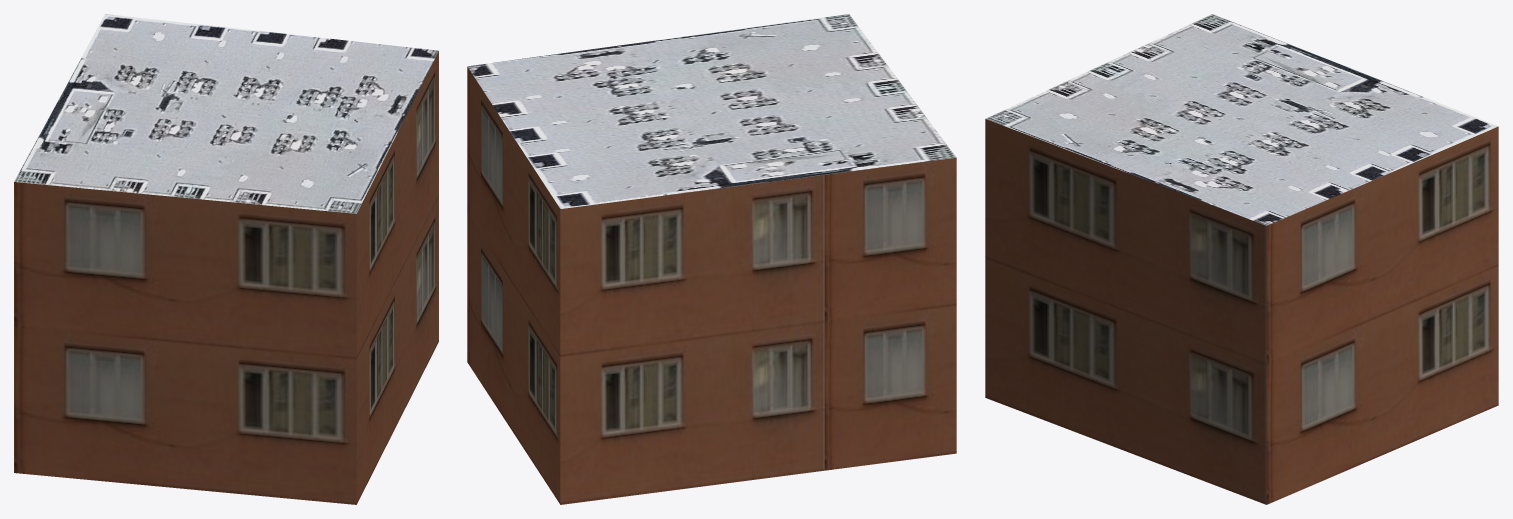
The model's file is ResTex__1703.fbx.
3 views of the same model, side by side, from view 1: azimuth 30°, elevation 25°; view 2: azimuth 150°, elevation 25°; view 3: azimuth 270°, elevation 25° (orthographic). The views are drawn at different scales.
Visible parts, largest first — view 1: CityEngineMaterial_20_m, CityEngineMaterial_m; view 2: CityEngineMaterial_20_m, CityEngineMaterial_m; view 3: CityEngineMaterial_20_m, CityEngineMaterial_m.
Part boxes in pixels (x1,y1,x2,y2): CityEngineMaterial_20_m: (14,51,438,504); CityEngineMaterial_m: (14,14,438,213); CityEngineMaterial_20_m: (467,67,956,504); CityEngineMaterial_m: (467,14,956,208); CityEngineMaterial_20_m: (985,119,1498,504); CityEngineMaterial_m: (985,14,1498,225).
Bounding box in the file's own units: 9.78 × 6 × 10.
Materials: 2 (2 with a texture image).
